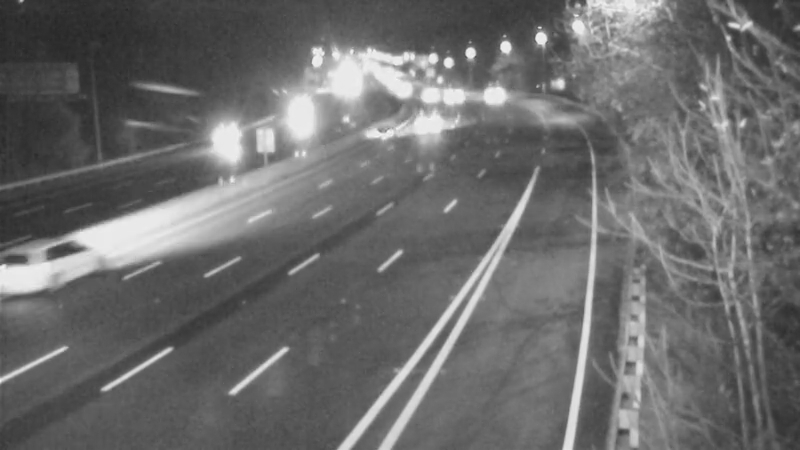vehicle: (6, 218, 86, 298), (466, 68, 516, 118), (403, 72, 453, 122), (422, 68, 472, 118), (407, 97, 457, 147), (355, 108, 405, 158), (202, 111, 252, 161), (278, 87, 328, 137)
